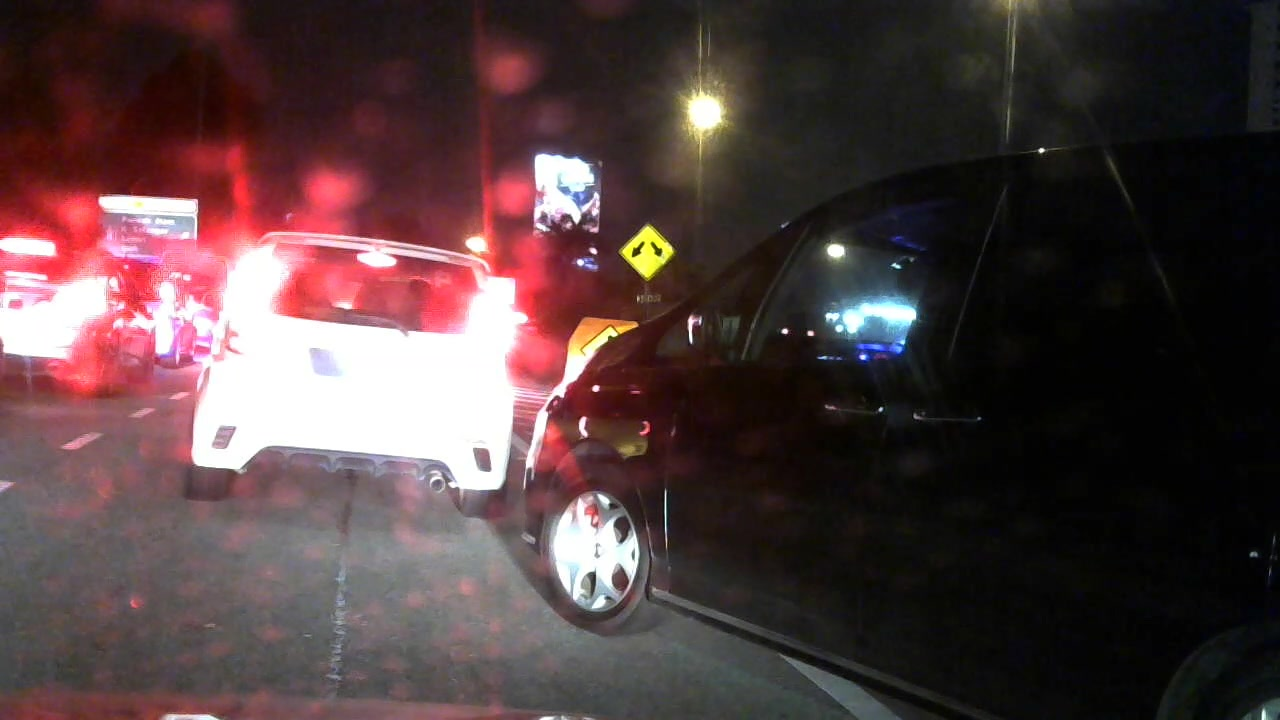Car: (532, 103, 1188, 693), (202, 227, 519, 508), (1, 231, 160, 377), (124, 255, 196, 365)
